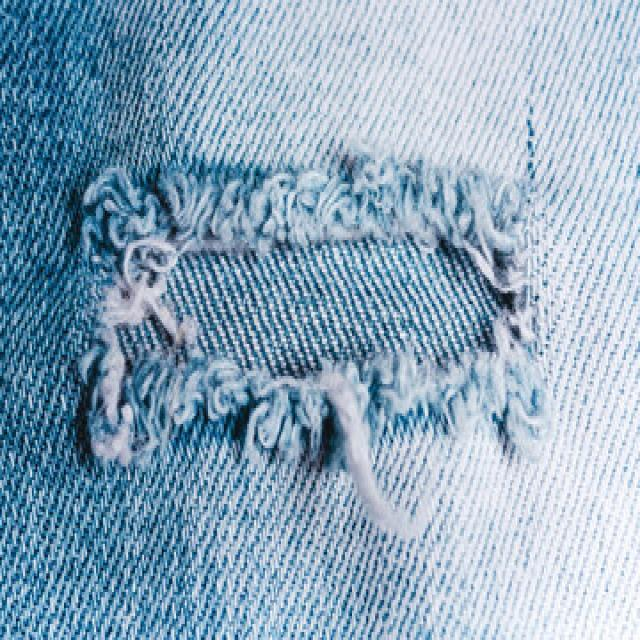Hole: (77, 154, 553, 538)
